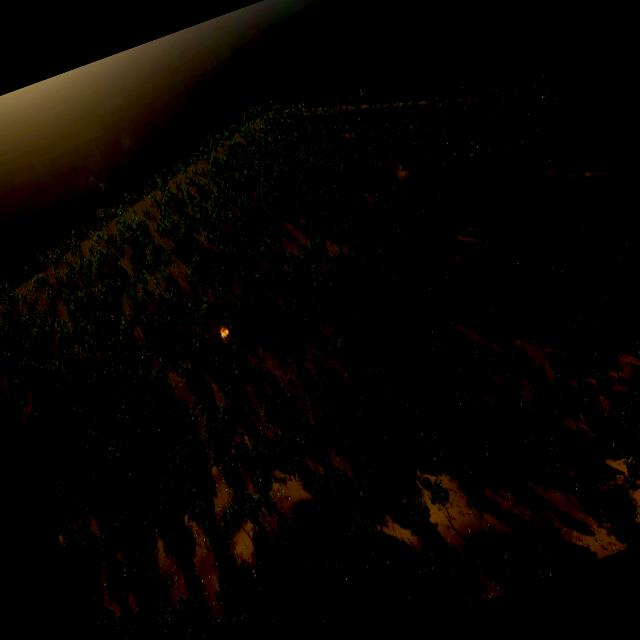fire: (217, 324, 230, 339)
